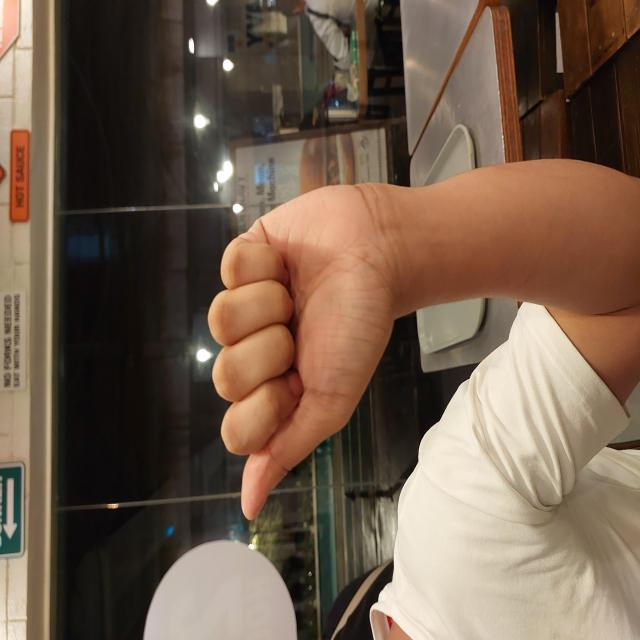A: (117, 205, 458, 401)
